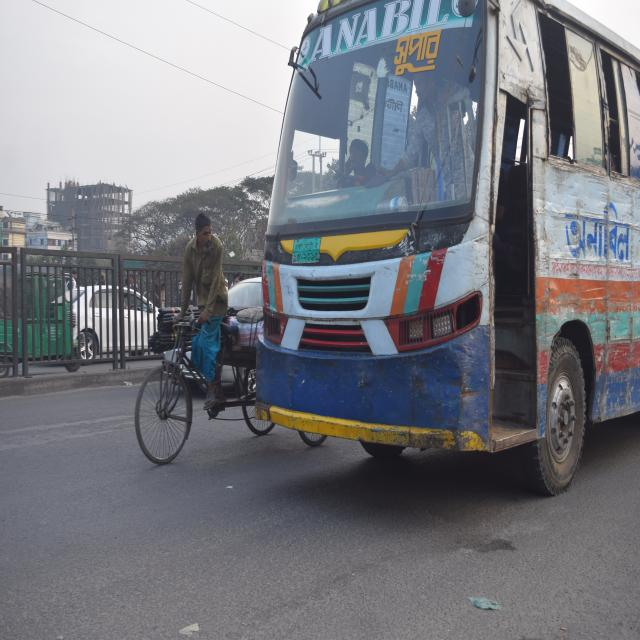bus: (259, 0, 640, 514)
car: (216, 258, 261, 383)
